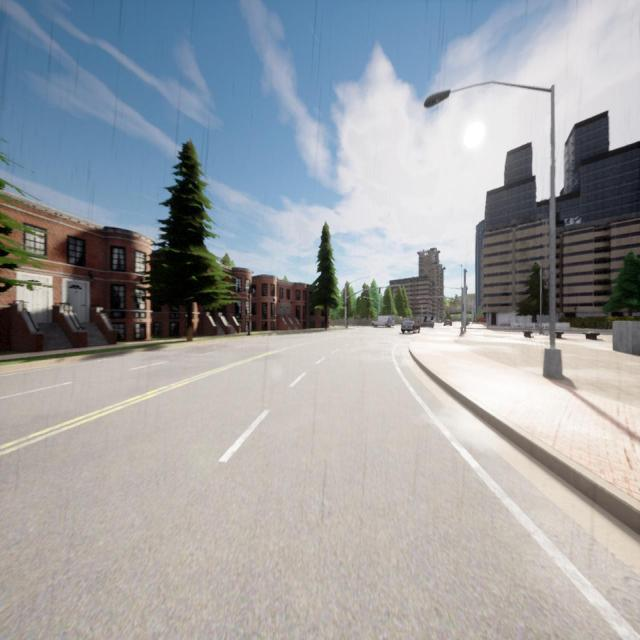Vehicle: (401, 317, 420, 334), (371, 315, 395, 328), (421, 319, 434, 328), (444, 318, 452, 326), (437, 320, 442, 323)
traffic_light: (416, 298, 418, 302), (438, 296, 440, 300), (379, 288, 380, 293), (427, 298, 428, 302)
